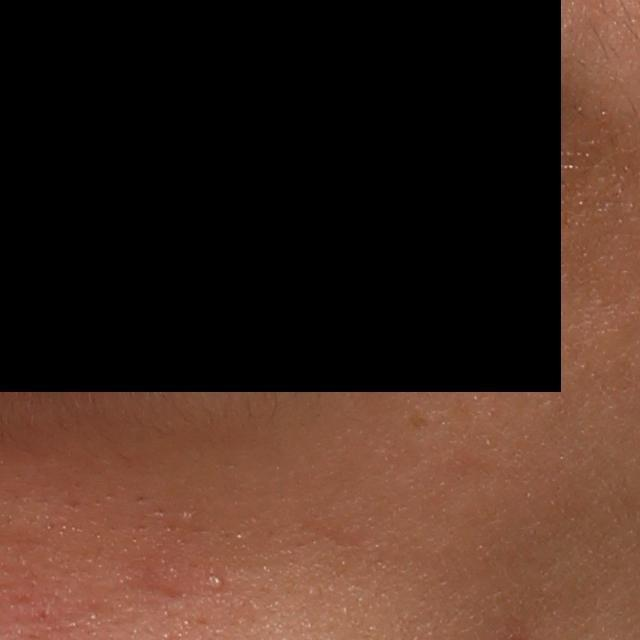pustule: (201, 566, 231, 595)
